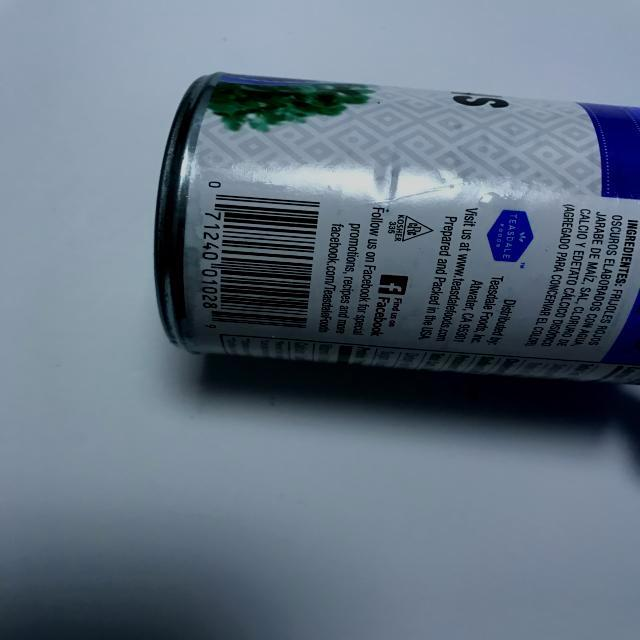metal: (140, 64, 640, 403)
